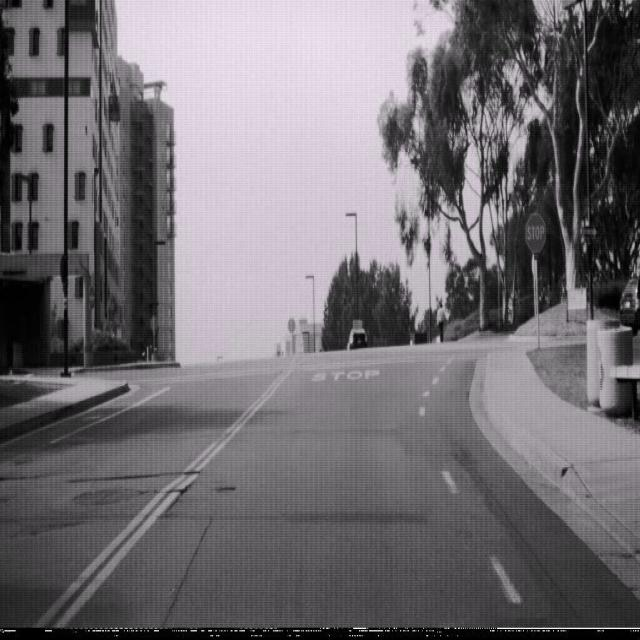stop: (524, 211, 546, 254)
